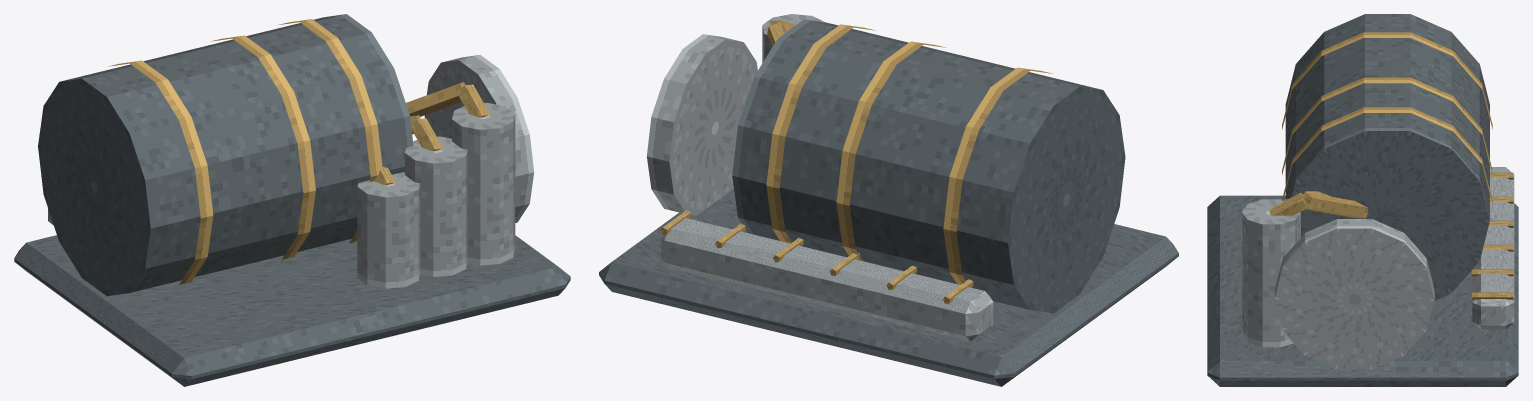
Rendered from steam_triple_medium.glb.
3 views of the same model, side by side, from view 1: azimuth 30°, elevation 25°; view 2: azimuth 150°, elevation 25°; view 3: azimuth 270°, elevation 25° (orthographic). The views are drawn at different scales.
Visible parts, largest first — view 1: block_cylindrical boiler, block_engine bed, block_triple-expansion cylinder (×3), block_boiler band (×3), block_flywheel, block_steam pipe 0 (×2), block_steam pipe 1; view 2: block_cylindrical boiler, block_engine bed, block_condenser block, block_flywheel, block_boiler band (×3), block_triple-expansion cylinder; view 3: block_cylindrical boiler, block_engine bed, block_flywheel, block_triple-expansion cylinder, block_condenser block, block_boiler band (×3), block_steam pipe 1, block_steam pipe 0, block_visible condenser fin 0.
Boxes of the visible parts, <box> form: block_cylindrical boiler: <box>38,14,413,296</box>; block_engine bed: <box>14,235,570,386</box>; block_triple-expansion cylinder (×3): <box>357,102,515,288</box>; block_boiler band (×3): <box>108,19,382,284</box>; block_flywheel: <box>424,55,534,222</box>; block_steam pipe 0 (×2): <box>411,84,489,151</box>; block_steam pipe 1: <box>406,82,465,116</box>; block_cylindrical boiler: <box>732,19,1125,313</box>; block_engine bed: <box>599,189,1178,386</box>; block_condenser block: <box>661,218,993,341</box>; block_flywheel: <box>646,34,757,215</box>; block_boiler band (×3): <box>766,24,1053,284</box>; block_triple-expansion cylinder: <box>762,14,825,62</box>; block_cylindrical boiler: <box>1285,14,1489,300</box>; block_engine bed: <box>1207,195,1518,386</box>; block_flywheel: <box>1275,219,1434,368</box>; block_triple-expansion cylinder: <box>1242,201,1300,347</box>; block_condenser block: <box>1472,167,1514,329</box>; block_boiler band (×3): <box>1282,32,1492,204</box>; block_steam pipe 1: <box>1302,192,1367,218</box>; block_steam pipe 0: <box>1269,193,1307,215</box>; block_visible condenser fin 0: <box>1472,292,1513,299</box>.
Bounding box in the file's own units: 0.7372 × 0.4132 × 0.5508.
Materials: 1 (1 with a texture image).
